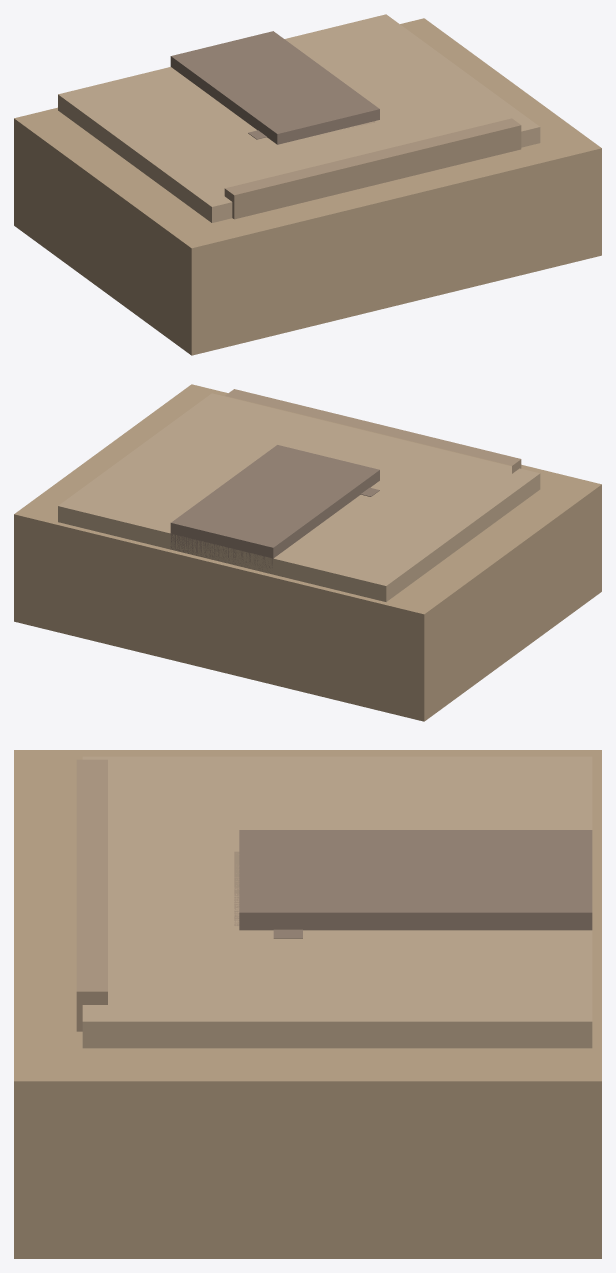
File: alula_tomb_lowpoly.glb
The picture shows the model from 3 angles, top to bottom: view 1: azimuth 30°, elevation 25°; view 2: azimuth 150°, elevation 25°; view 3: azimuth 270°, elevation 25°; orthographic projection. The views are drawn at different scales.
Visible parts, largest first — view 1: world; view 2: world; view 3: world.
Part boxes in pixels (x1,y1,x2,y2): world: [14, 14, 601, 355]; world: [14, 384, 601, 721]; world: [14, 750, 601, 1258].
Bounding box in the file's own units: 4 × 1.25 × 3.
